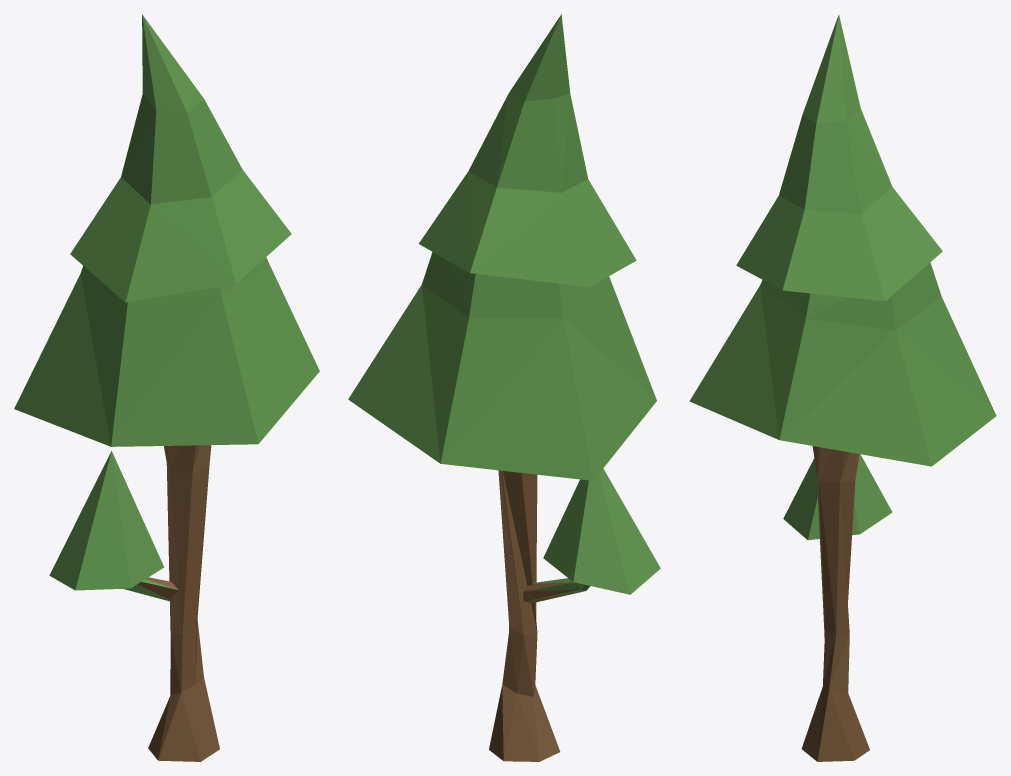
The model's file is tree3d-034.glb.
3 views of the same model, side by side, from view 1: azimuth 30°, elevation 25°; view 2: azimuth 150°, elevation 25°; view 3: azimuth 270°, elevation 25° (orthographic). The views are drawn at different scales.
Visible parts, largest first — view 1: tree3d-034; view 2: tree3d-034; view 3: tree3d-034.
Boxes of the visible parts, x1,y1,x2,y2 form: tree3d-034: (14, 14, 319, 761); tree3d-034: (348, 14, 660, 761); tree3d-034: (689, 14, 996, 761).
Bounding box in the file's own units: 0.3485 × 1 × 0.3886.
